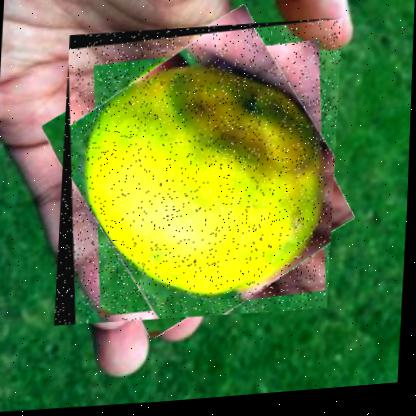orange_rotten: (55, 17, 343, 331)
